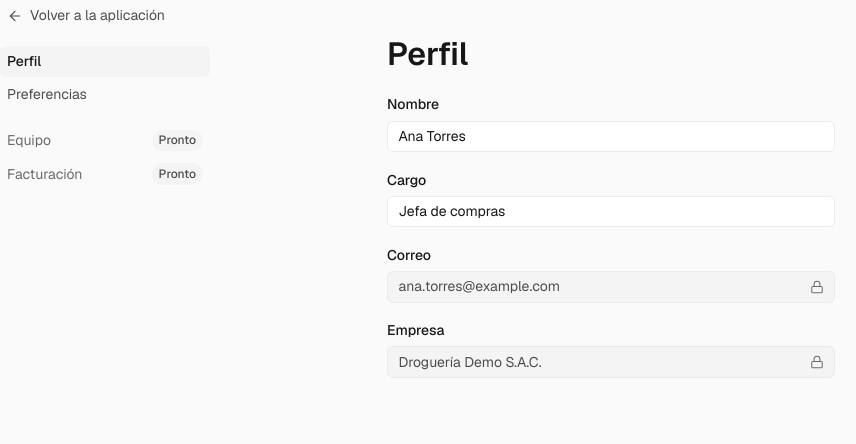
profile (settings) › is pristine until something changes, then offers Descartar and Guardar
Expected: the button "Guardar" is not shown
Type " senior" into the field labelled "Cargo". click: [611, 212]
box: [398, 201, 824, 222]
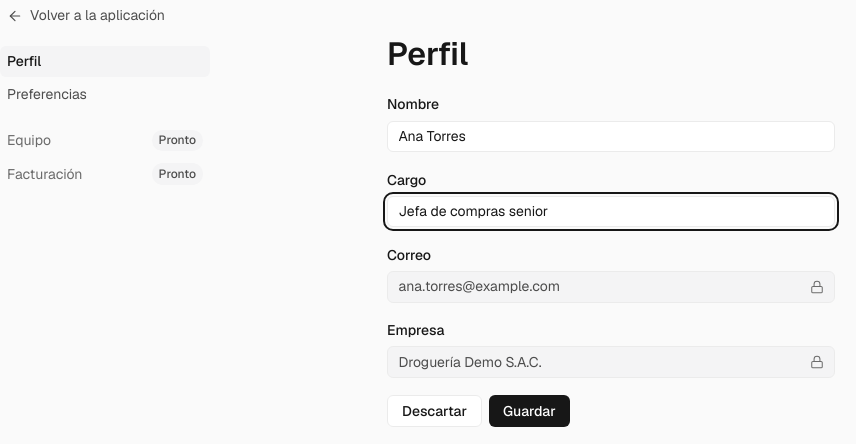
Now the button "Guardar" is shown, box [489, 395, 570, 427]
Now the button "Descartar" is shown, box [387, 395, 482, 427]
